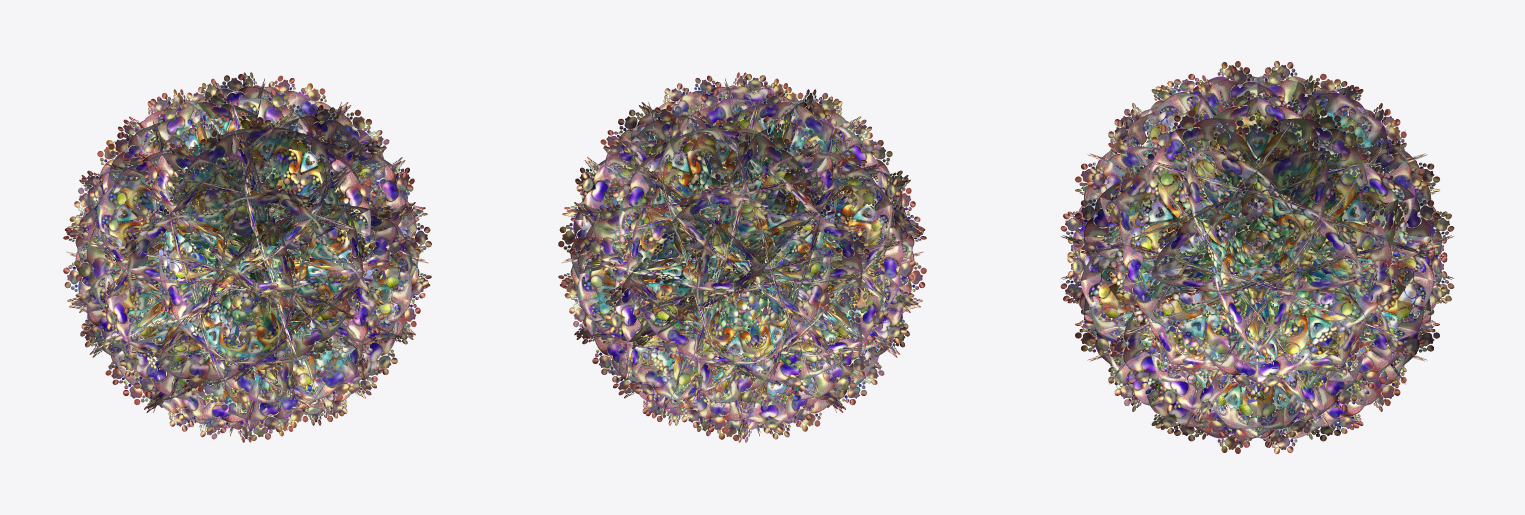
The model's file is GreatRhombidodecahedron.gltf.
The picture shows the model from 3 angles, left to right: view 1: azimuth 30°, elevation 25°; view 2: azimuth 150°, elevation 25°; view 3: azimuth 270°, elevation 25°; orthographic projection. The views are drawn at different scales.
Visible parts, largest first — view 1: 1GreatRhombidodecahedron; view 2: 1GreatRhombidodecahedron; view 3: 1GreatRhombidodecahedron.
Boxes of the visible parts, <box> form: 1GreatRhombidodecahedron: <box>63,72,431,442</box>; 1GreatRhombidodecahedron: <box>558,72,926,442</box>; 1GreatRhombidodecahedron: <box>1060,61,1454,453</box>.
Bounding box in the file's own units: 1.38 × 1.38 × 1.38.
Materials: 1 (1 with a texture image).
